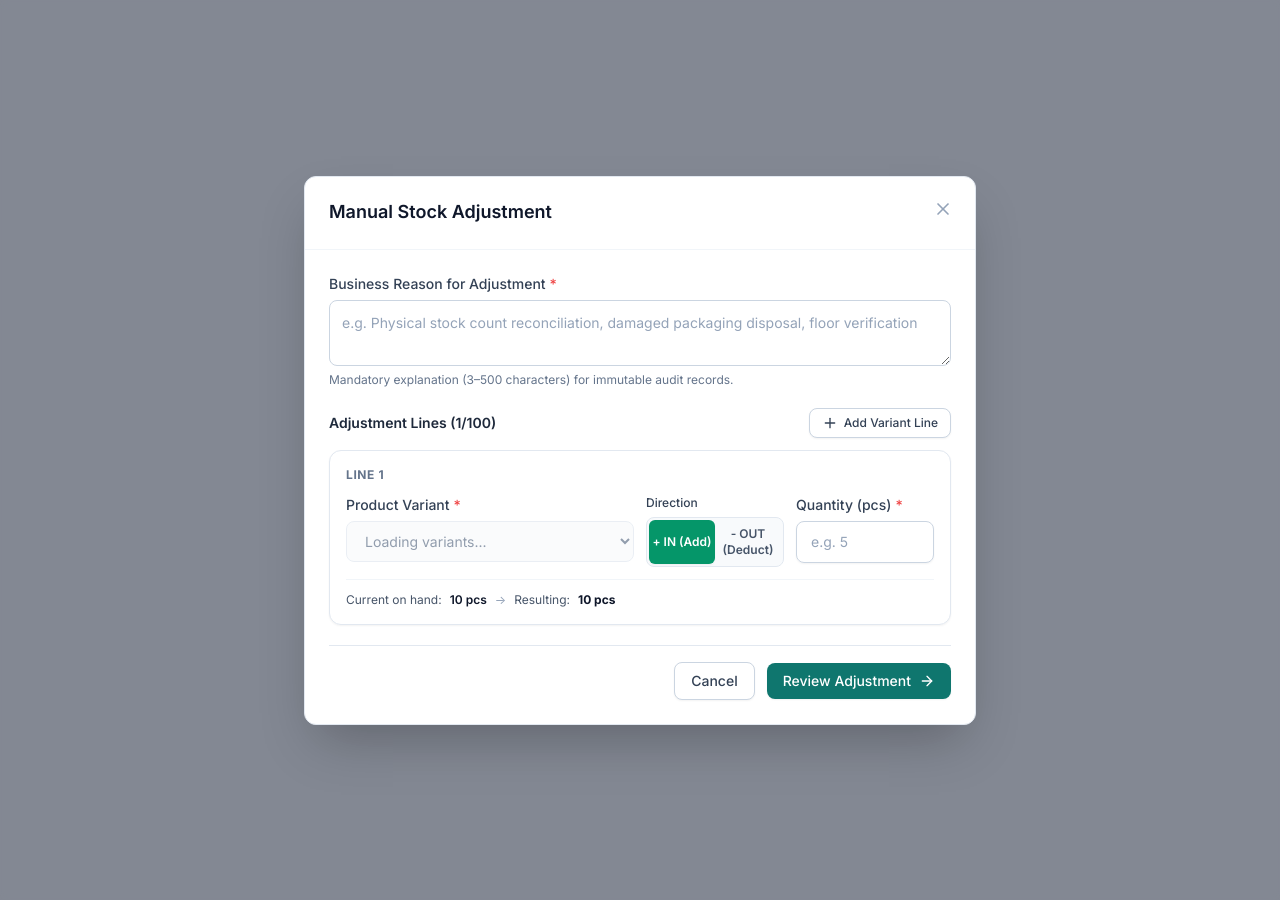
StockAdjustmentModal Component Tests › strictly blocks OUT adjustment when requested quantity exceeds available stock
# Switch to OUT
Step 1. Click the button "- OUT (Deduct)" → (748, 542), box [715,520,781,564]
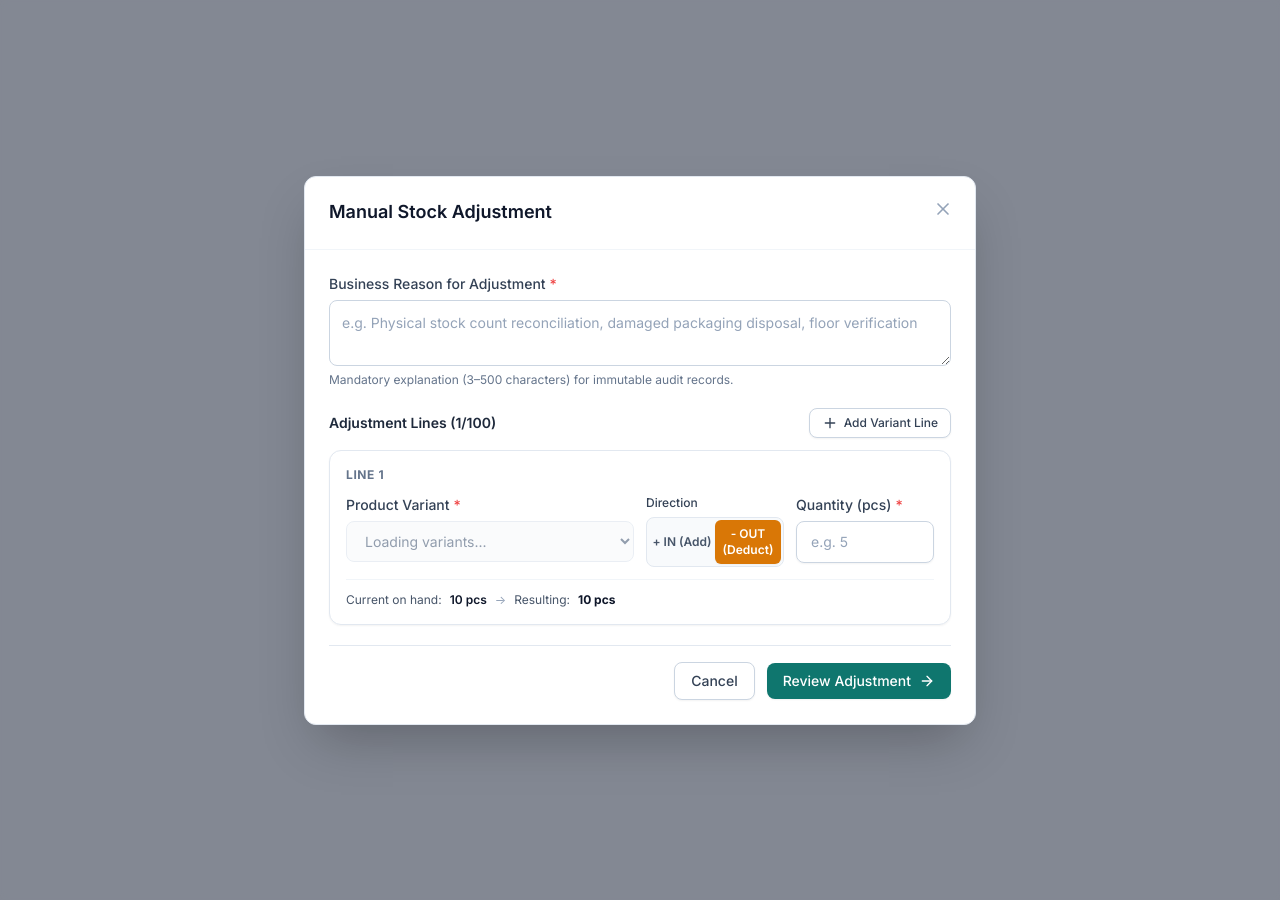
# Current stock is 10, request 15
Step 2. Type "15" into the number field with placeholder "e.g. 5" → (865, 542), box [796,520,934,562]
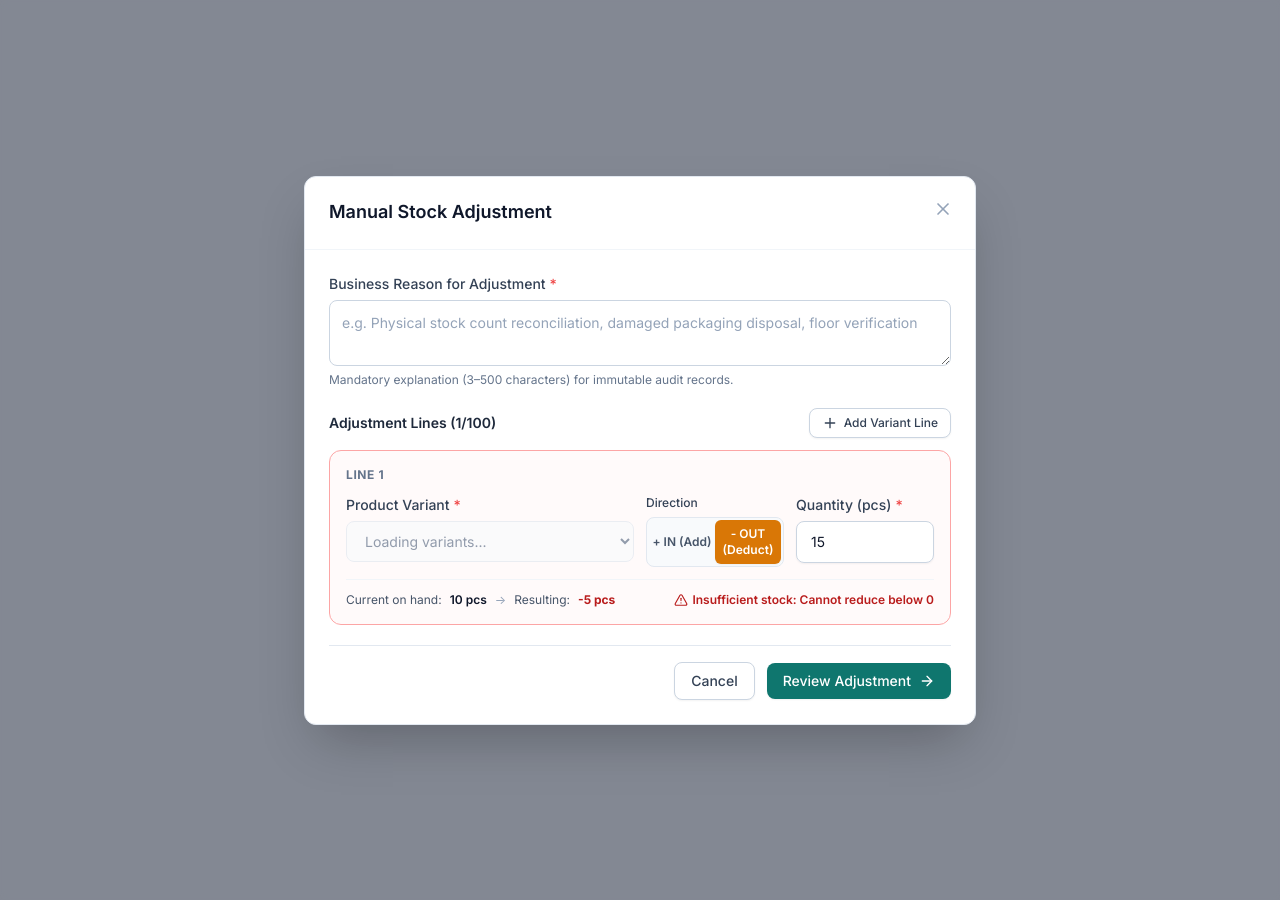
Check: the text "Insufficient stock: Cannot reduce below 0" is shown, box [674,592,934,608]
# Fill in reason
Step 3. Replace the text in the text box labelled "Business Reason for Adjustment*" with "Broken bottles count" → (640, 332), box [329,300,951,366]
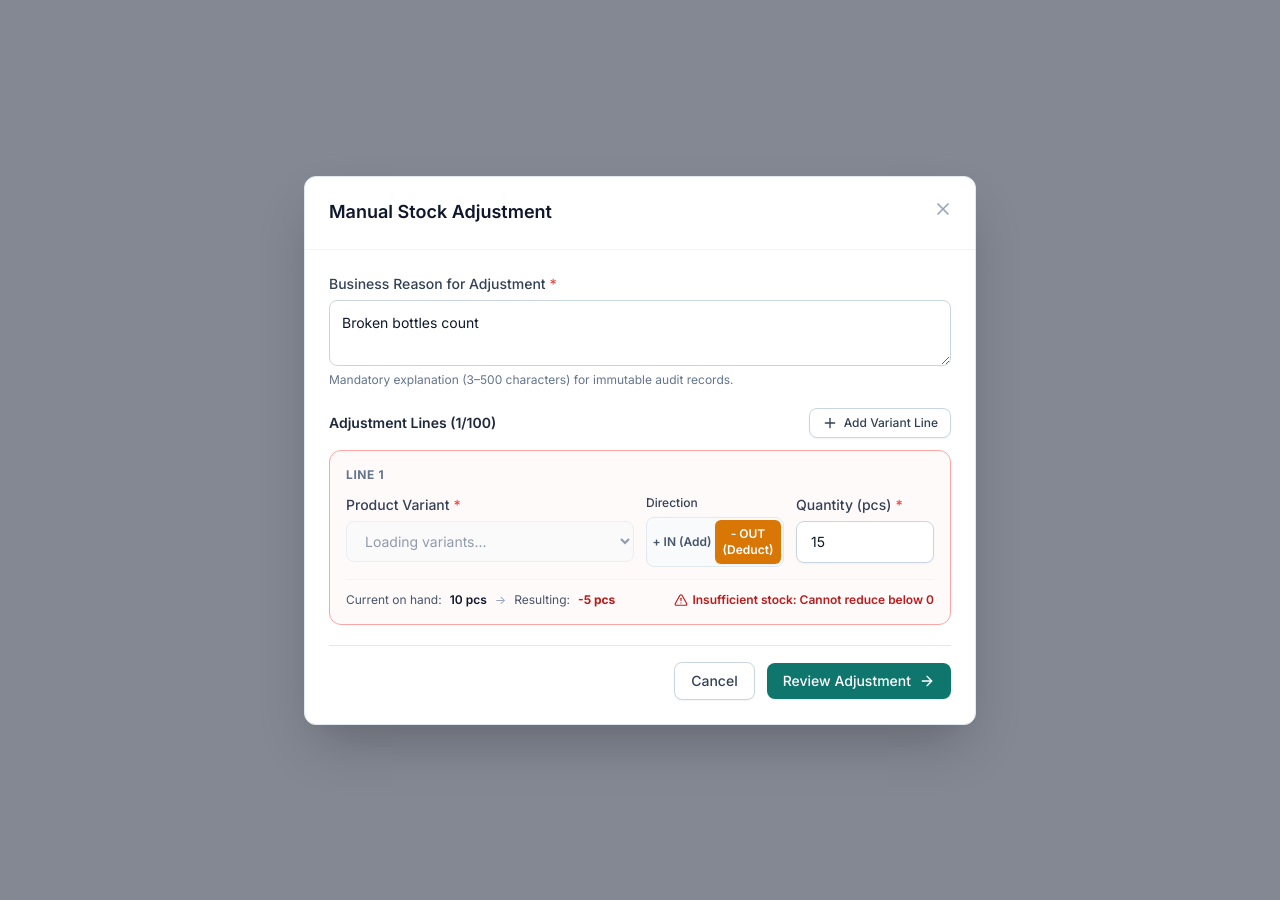
# Attempt to proceed
Step 4. Click the button "Review Adjustment" → (859, 680), box [767,662,951,698]
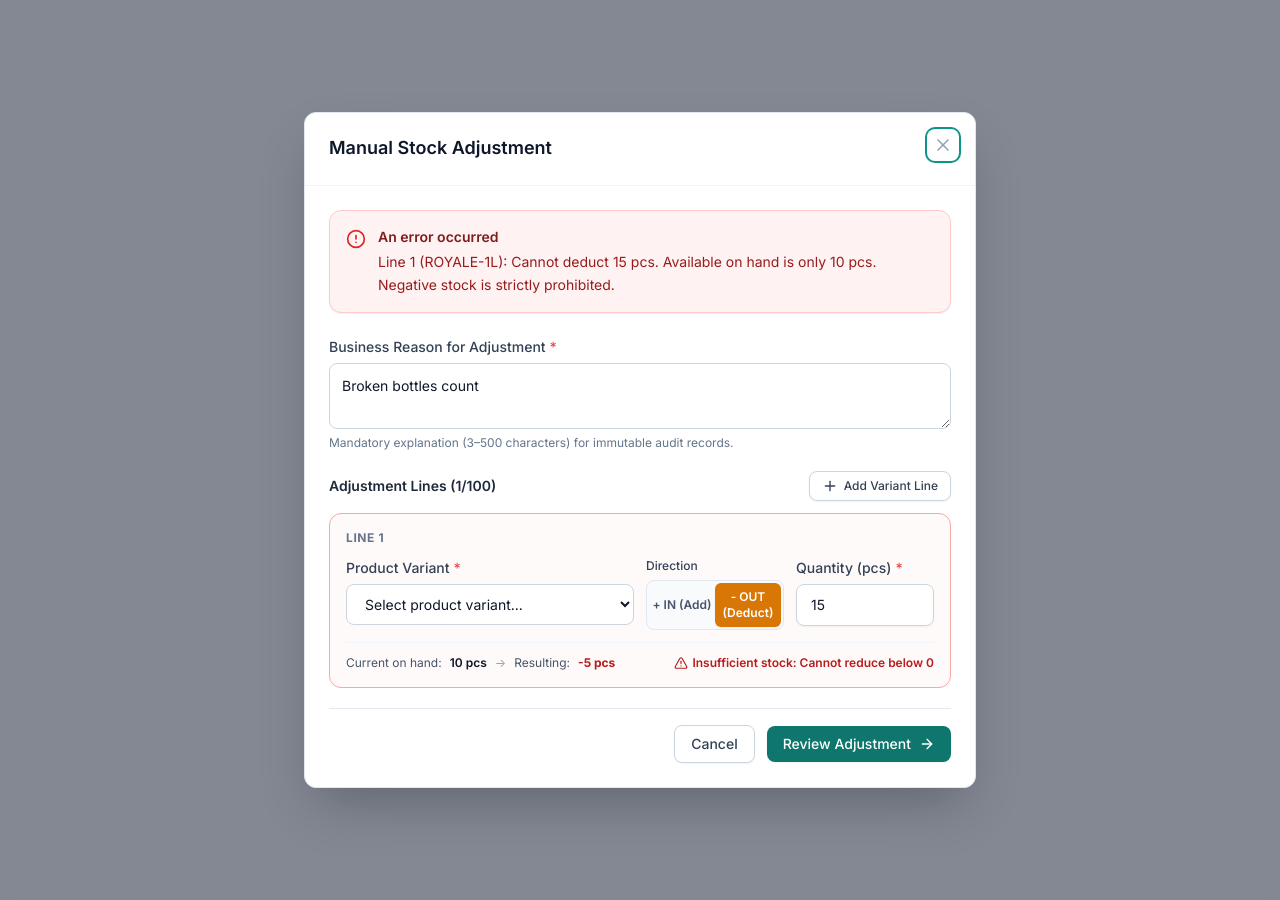
Check: the text "Cannot deduct 15 pcs. Available on hand is only 10 pcs. Negative stock is strictly prohibited." is shown, box [378,253,876,293]
